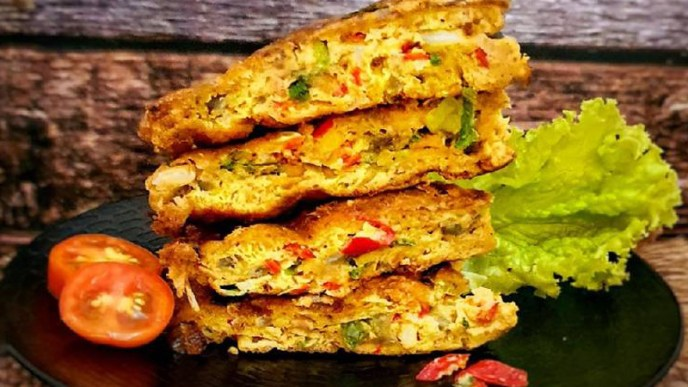Telur: (157, 83, 497, 229), (121, 8, 532, 114), (165, 283, 524, 385), (157, 227, 533, 289)
